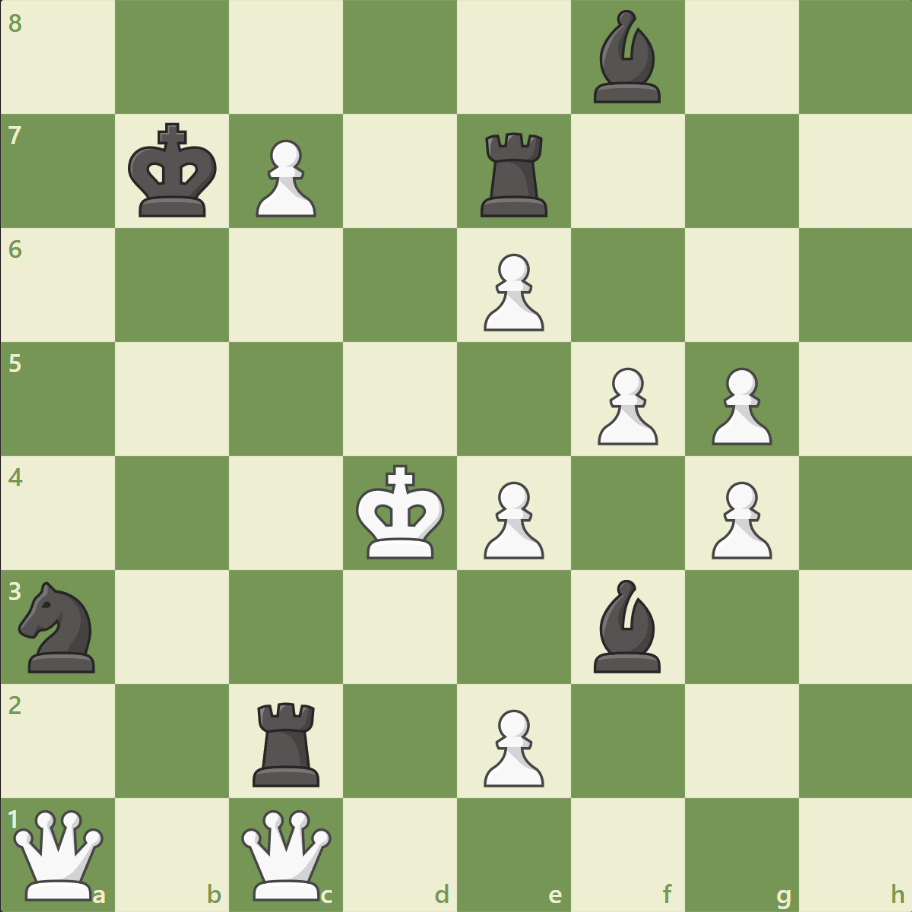K: (351, 458, 451, 566)
P: (247, 132, 322, 223), (474, 246, 549, 337), (701, 359, 776, 450), (474, 473, 549, 564), (701, 473, 776, 564), (474, 700, 549, 791), (588, 359, 662, 450)
Q: (10, 804, 109, 903), (237, 804, 336, 903)
b: (585, 6, 669, 109), (585, 574, 669, 676)
k: (124, 117, 224, 225)
n: (11, 575, 108, 677)
r: (473, 125, 556, 222), (246, 693, 329, 790)
